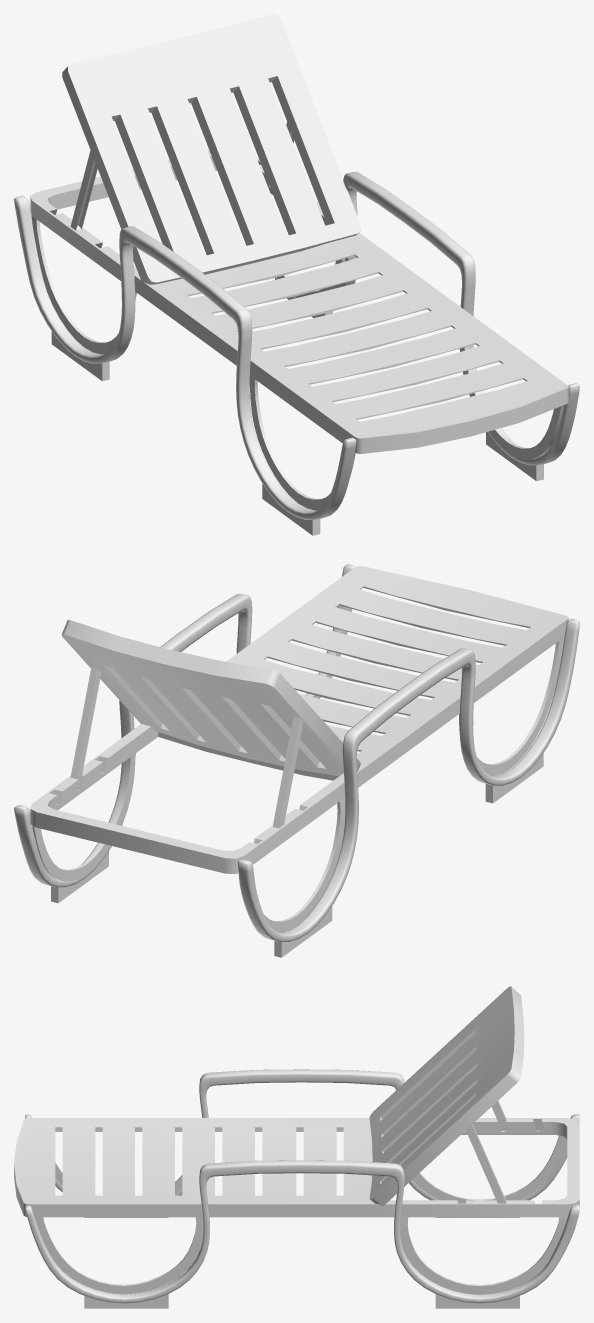
The model's file is Transat.fbx.
The picture shows the model from 3 angles, top to bottom: view 1: azimuth 30°, elevation 25°; view 2: azimuth 150°, elevation 25°; view 3: azimuth 270°, elevation 25°; orthographic projection. The views are drawn at different scales.
Parts seen in each view (by area): view 1: Transat; view 2: Transat; view 3: Transat.
Boxes of the visible parts, box(x1,y1,x2,y2) form: Transat: box(14, 14, 579, 535); Transat: box(14, 564, 579, 957); Transat: box(14, 986, 579, 1308).
Bounding box in the file's own units: 76.37 × 87.39 × 191.
